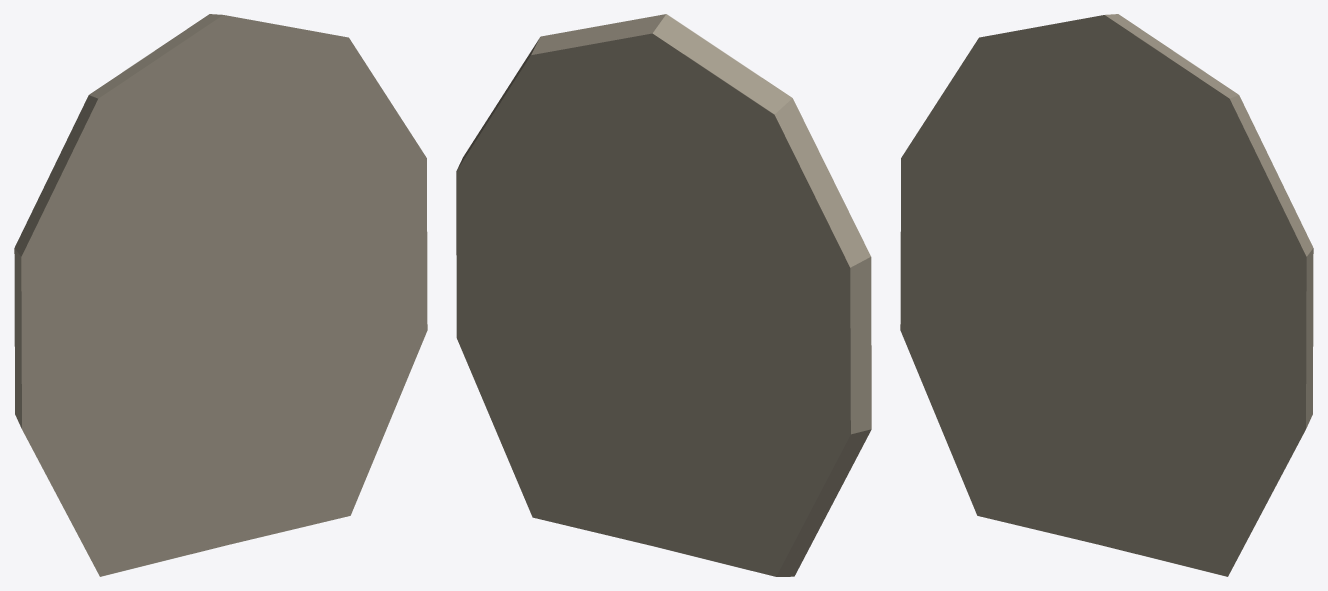
File: SM_Prop_Toilet_01_Lid.fbx
The picture shows the model from 3 angles, left to right: view 1: azimuth 30°, elevation 25°; view 2: azimuth 150°, elevation 25°; view 3: azimuth 330°, elevation 25°; orthographic projection.
Parts seen in each view (by area): view 1: SM_Prop_Toilet_01_Lid; view 2: SM_Prop_Toilet_01_Lid; view 3: SM_Prop_Toilet_01_Lid.
Part boxes in pixels (bbox=[...]): SM_Prop_Toilet_01_Lid: bbox=[14, 14, 427, 576]; SM_Prop_Toilet_01_Lid: bbox=[456, 14, 871, 576]; SM_Prop_Toilet_01_Lid: bbox=[900, 14, 1313, 576].
Bounding box in the file's own units: 41.29 × 51.58 × 2.77.
